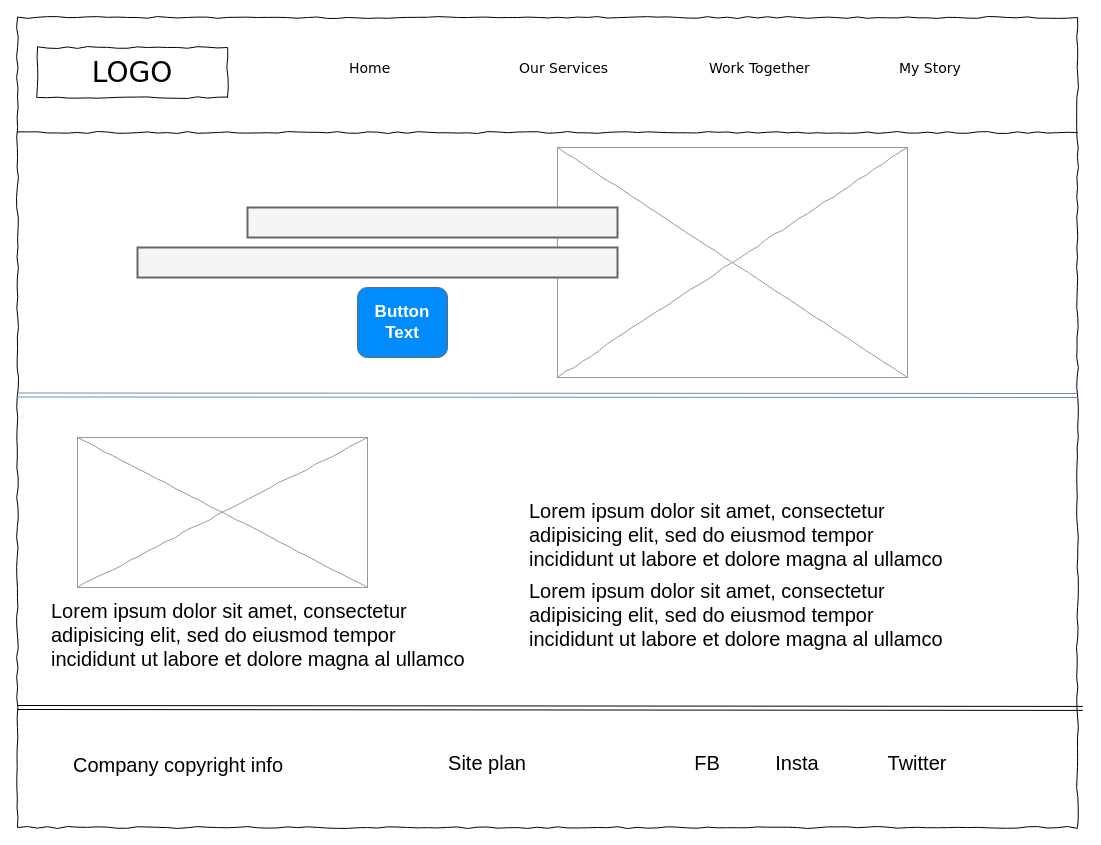
Image size: 1101x845. Some labels were removed from this diagram. The box of each missing label's shape, as (x1, y1, x2, y2) in pixels:
H1: (246, 206, 618, 238)
H2: (136, 246, 618, 278)
